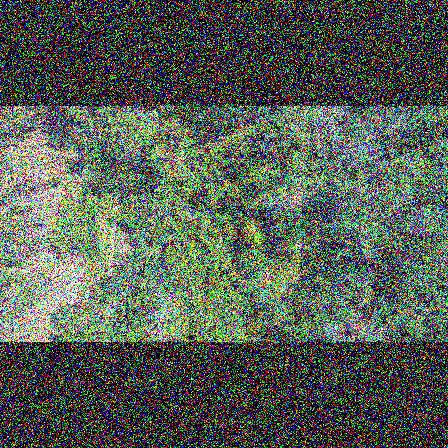Dead: (317, 298, 399, 342), (131, 280, 190, 341), (380, 203, 443, 241), (323, 130, 377, 171), (256, 186, 320, 220), (299, 106, 349, 147), (366, 106, 413, 143), (190, 201, 220, 224)
